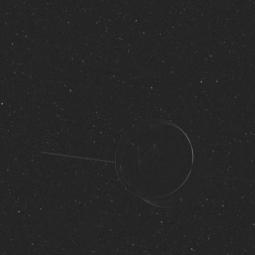double_start: (98, 109, 201, 211)
